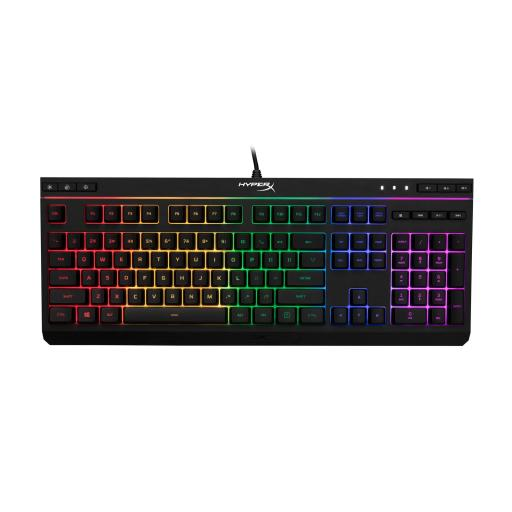KEYBOARD-2: (24, 167, 479, 355)
